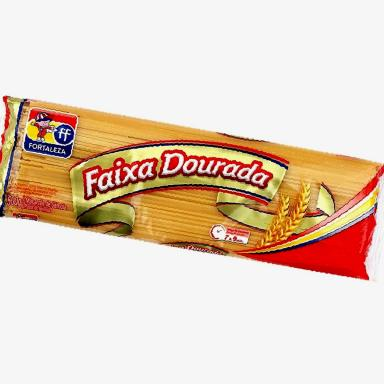pasta package: (0, 97, 383, 279)
